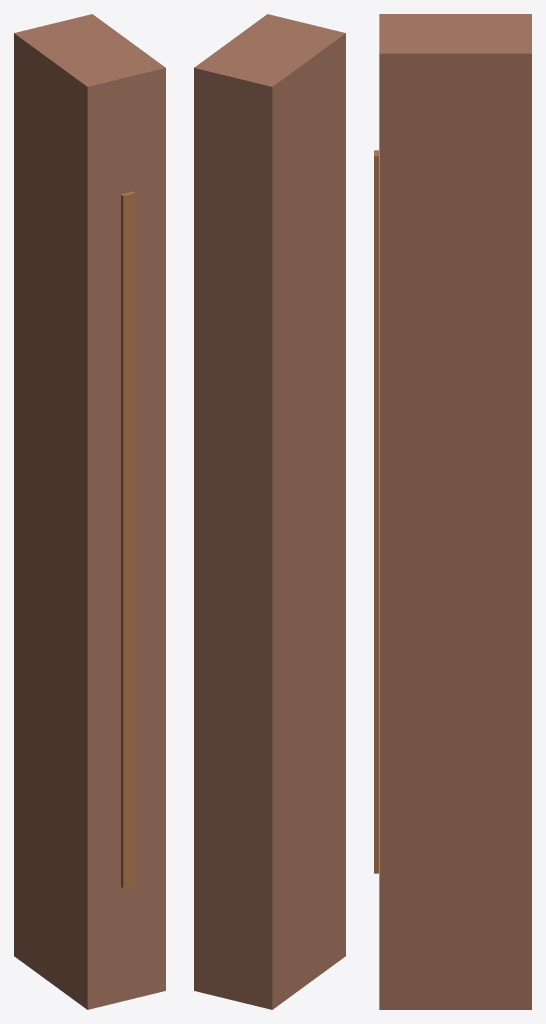
Rendered from Arch_Facade_Terracotta_Fin.glb.
3 views of the same model, side by side, from view 1: azimuth 30°, elevation 25°; view 2: azimuth 150°, elevation 25°; view 3: azimuth 270°, elevation 25° (orthographic). The views are drawn at different scales.
Visible parts, largest first — view 1: Arch_Facade_Terracotta_Fin; view 2: Arch_Facade_Terracotta_Fin; view 3: Arch_Facade_Terracotta_Fin.
Part boxes in pixels (x1,y1,x2,y2): Arch_Facade_Terracotta_Fin: (14,14,165,1009); Arch_Facade_Terracotta_Fin: (194,14,345,1009); Arch_Facade_Terracotta_Fin: (374,14,531,1009).
Size of the model in its own units: 0.32 by 3.6 by 0.538.
